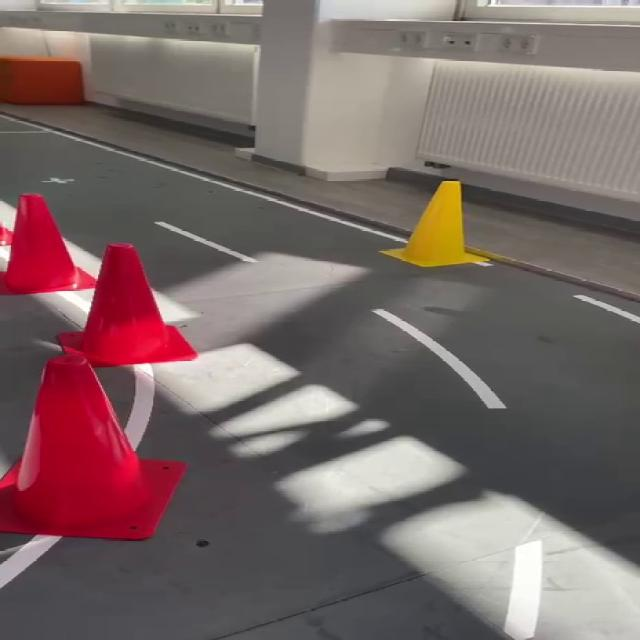Cone-red: (0, 357, 213, 538), (82, 246, 186, 374), (7, 186, 91, 302)
Cones-yellow: (390, 162, 490, 284)
